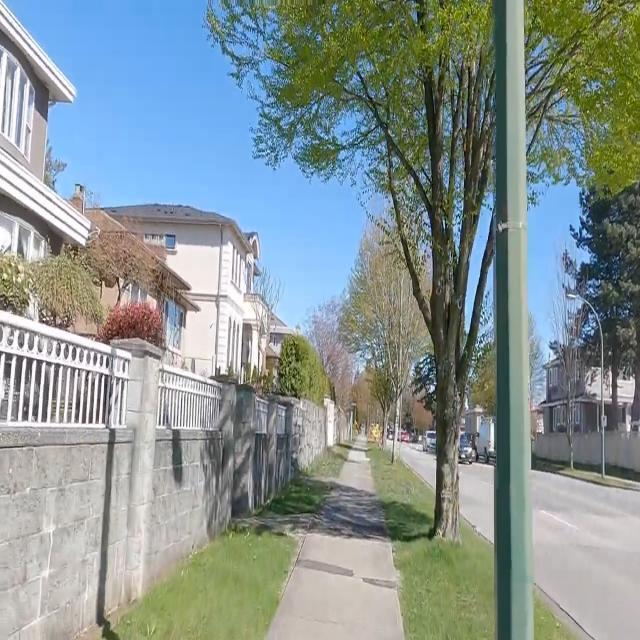Automobile: (459, 432, 475, 463), (423, 430, 435, 452), (400, 430, 409, 441)
Obstacle: (209, 0, 498, 538), (0, 323, 296, 639), (494, 0, 532, 639), (369, 446, 492, 639), (113, 532, 297, 639), (396, 525, 493, 639), (293, 400, 326, 467), (536, 598, 576, 639), (536, 599, 574, 639), (307, 448, 346, 478), (393, 399, 398, 461)
Road: (530, 470, 639, 639), (531, 470, 639, 639), (461, 464, 493, 541), (461, 464, 492, 540), (401, 444, 433, 486)
Sidewalk: (259, 428, 404, 640)
